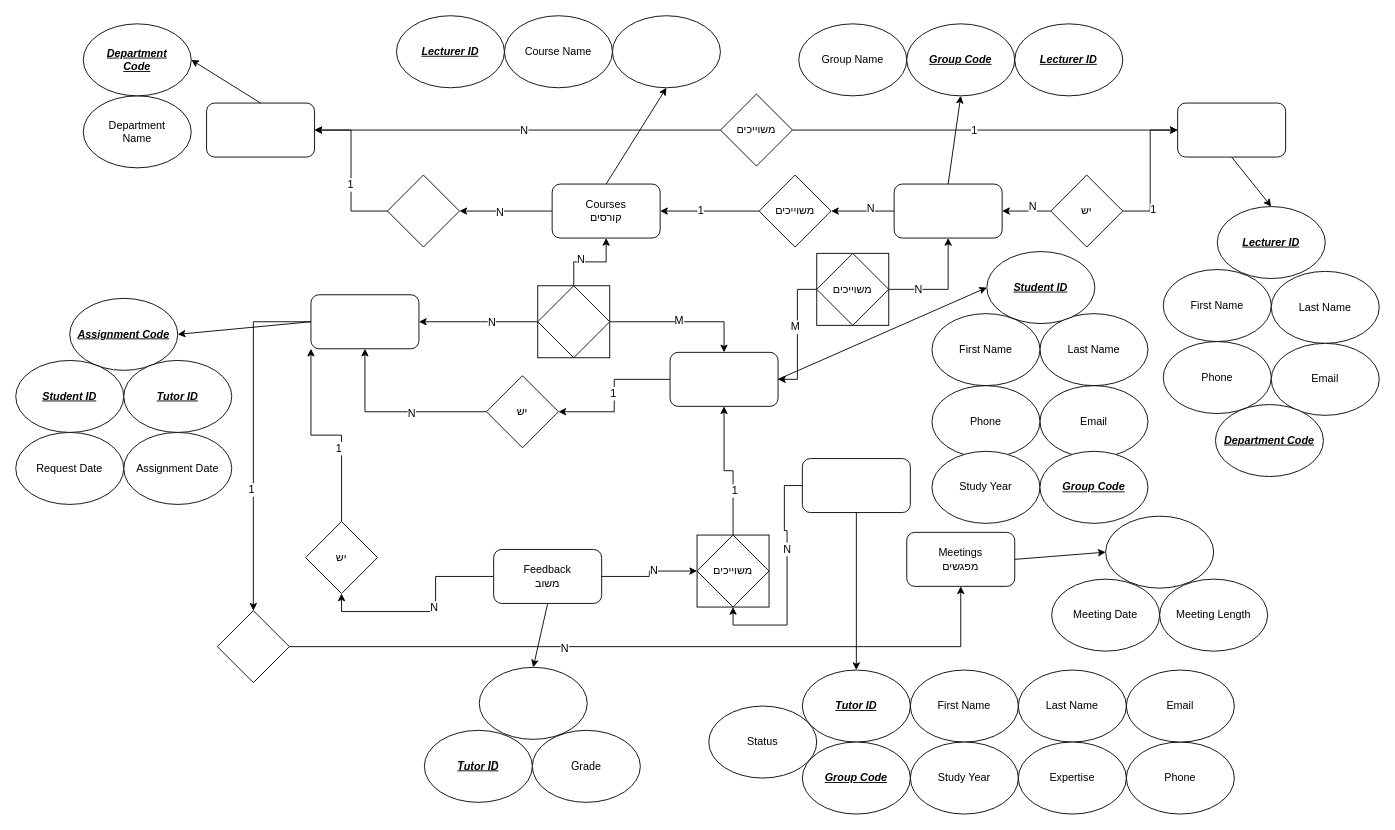
This 1395x830 diagram has some shape labels left out. Each missing label, with the centre of its shape:
Course Code: pixel 666 51
Departments מחלקות: pixel 260 129
Feedback Code: pixel 532 702
Lecturers מרצים: pixel 1231 129
Meeting Code: pixel 1159 551
Students סטודנטים: pixel 723 378
Study Groups קבוצת לימוד: pixel 947 210
Tutor Assignments שיבוץ חונכות: pixel 364 321
Tutors חונכים: pixel 855 485
בקשת חונכות: pixel 573 321
מנהלים: pixel 423 210
קיימים: pixel 252 646
